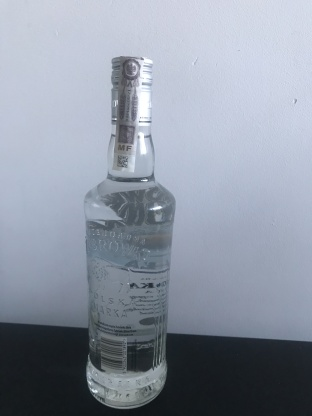nakretka: (108, 51, 156, 130)
